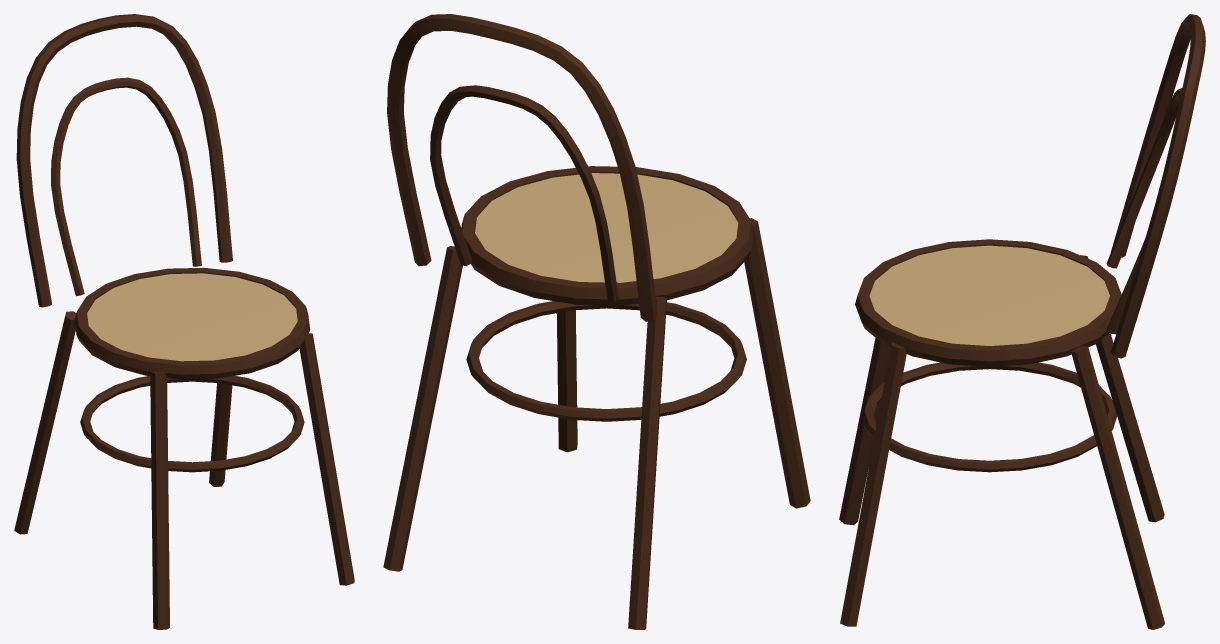
The model's file is bentwood_walnut.glb.
The picture shows the model from 3 angles, left to right: view 1: azimuth 30°, elevation 25°; view 2: azimuth 150°, elevation 25°; view 3: azimuth 270°, elevation 25°; orthographic projection. The views are drawn at different scales.
Visible parts, largest first — view 1: bentwood_walnut; view 2: bentwood_walnut; view 3: bentwood_walnut.
Boxes of the visible parts, left/top/right/bottom form: bentwood_walnut: left=14, top=14, right=354, bottom=629; bentwood_walnut: left=383, top=14, right=810, bottom=629; bentwood_walnut: left=839, top=14, right=1205, bottom=629.
Bounding box in the file's own units: 0.4269 × 0.93 × 0.5715.
